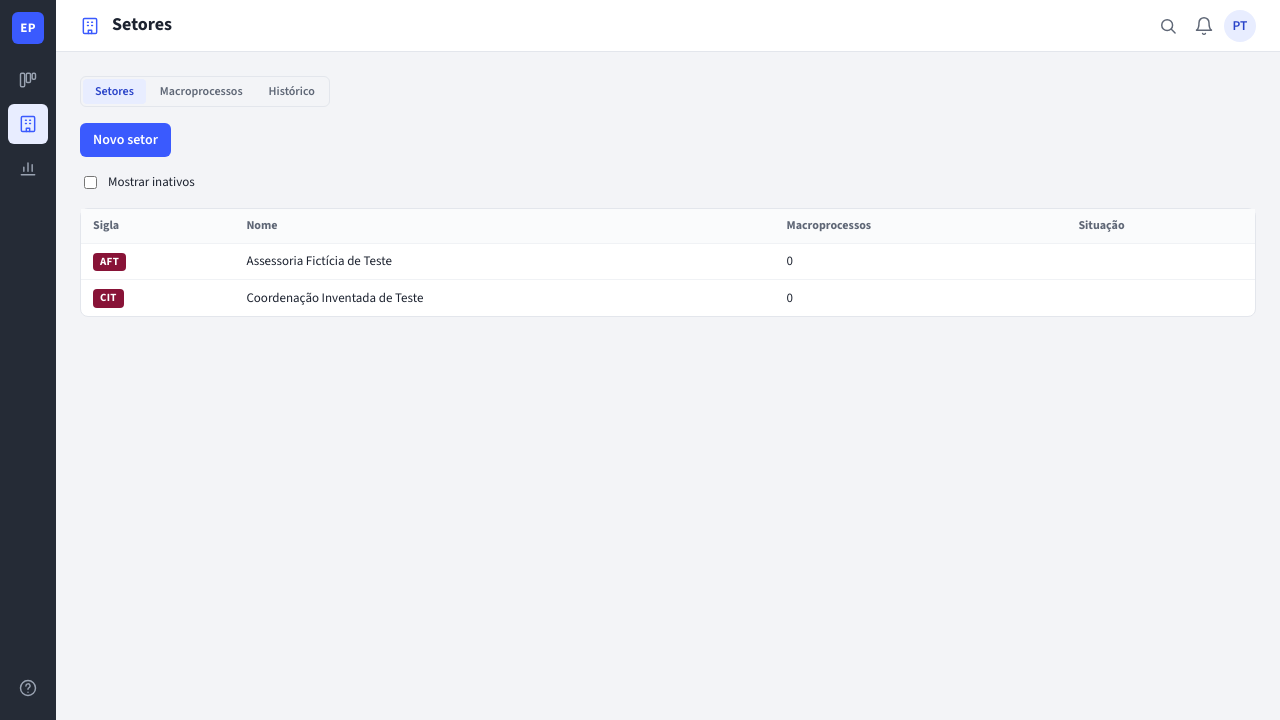
Test: Excluir abre a janela com o texto da spec e o foco no Cancelar
What coordinates should you click on to do the following:
click the cell "AFT"
I would click on:
 (158, 262)
Its box is [81, 244, 234, 280].
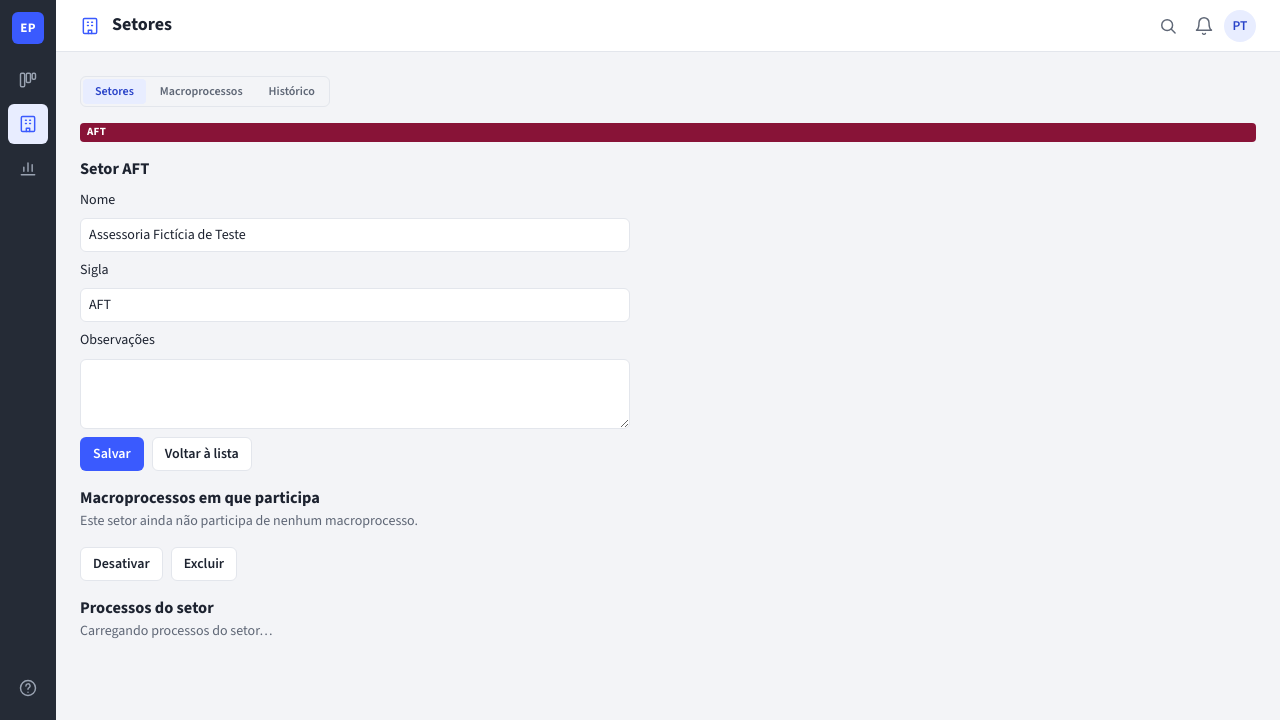
What coordinates should you click on to do the following:
click the button "Excluir"
I would click on:
 (204, 564)
Its box is [171, 547, 237, 581].
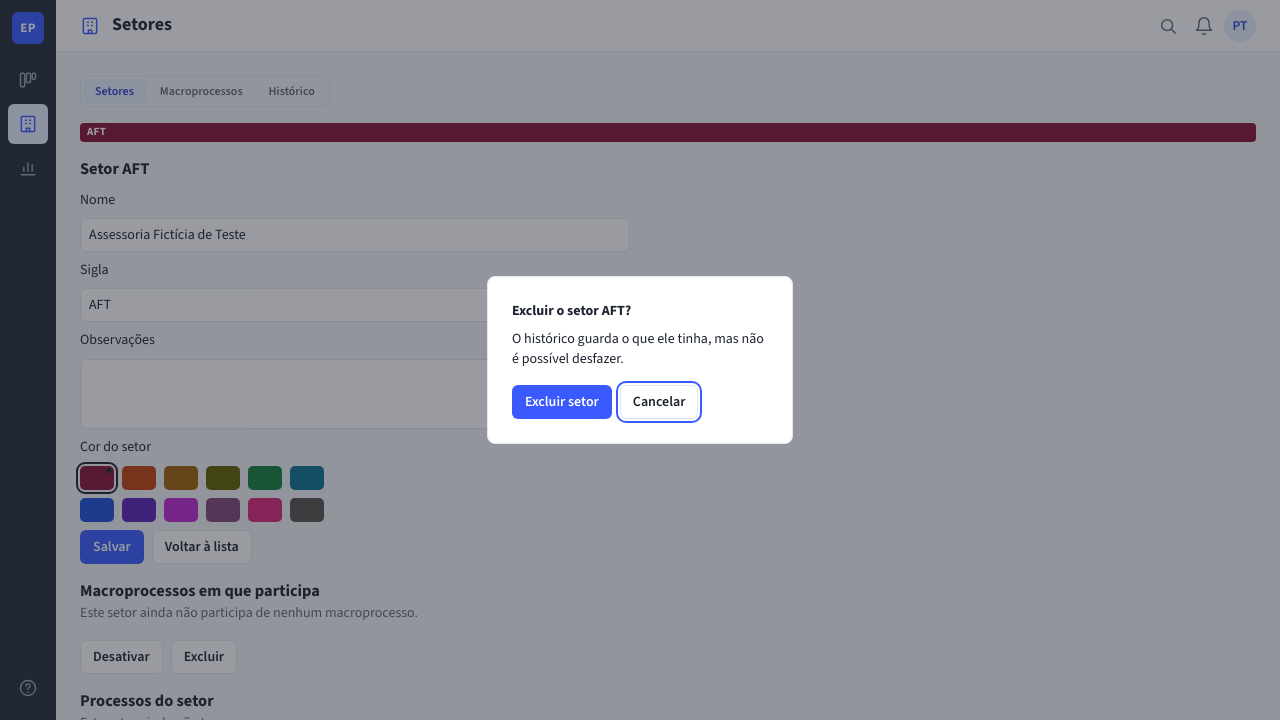
Result: the text "O histórico guarda o que ele tinha, mas não é possível desfazer." is shown at [512, 329, 768, 369]
Result: the button "Excluir setor" is shown at [512, 385, 612, 419]
